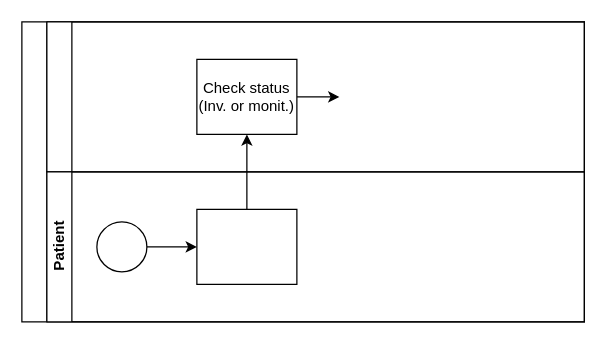
This 606x344 diagram has some shape labels left out. The shapes that lost their labels are listed below. From the top down, each one's box as (x1, y1, x2, y2) in pixels, then its label:
(46, 21, 584, 172): Admin
(196, 208, 297, 284): Enter information
